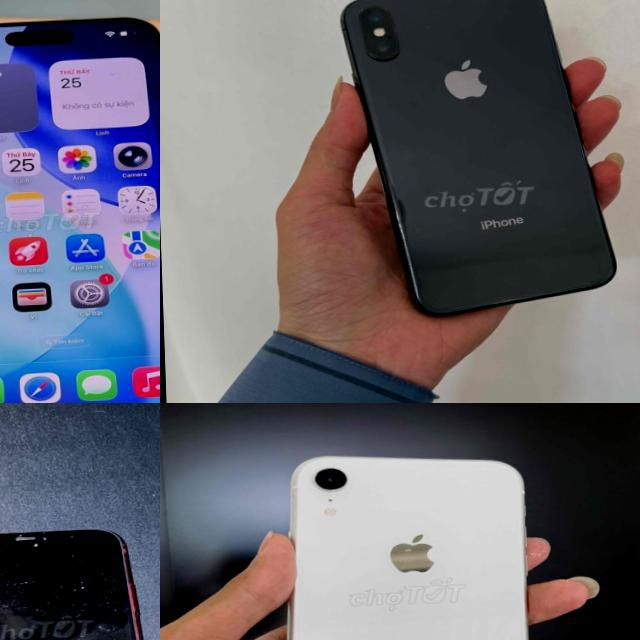scratch: (0, 548, 106, 603), (0, 601, 125, 640), (0, 524, 107, 546), (386, 210, 412, 233), (422, 20, 436, 32), (402, 259, 417, 268), (356, 6, 366, 13)
